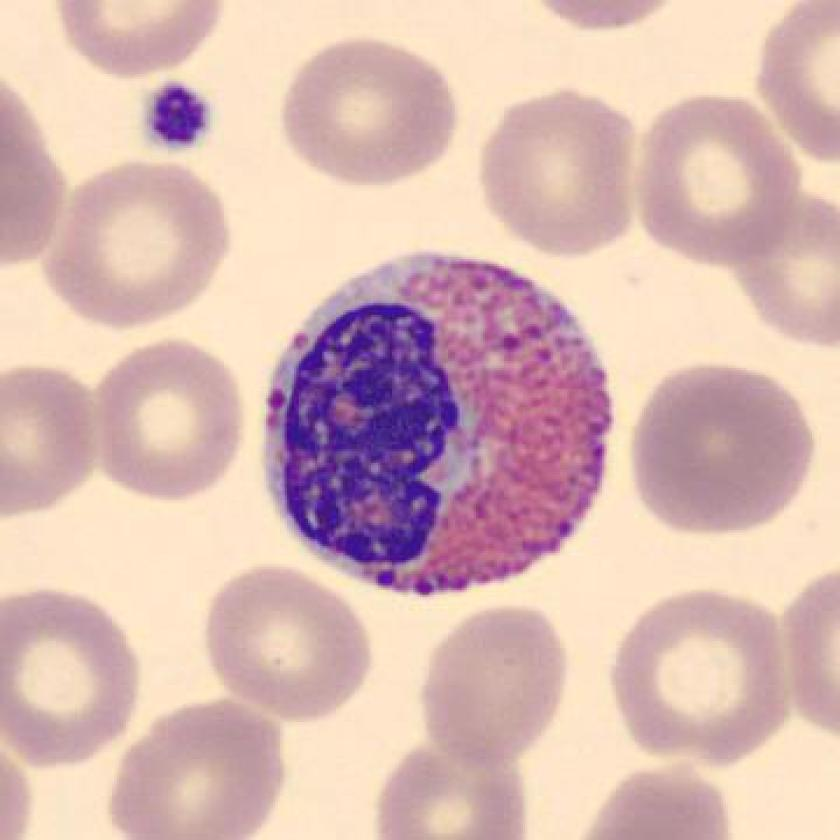eosinophil: (248, 246, 624, 612)
